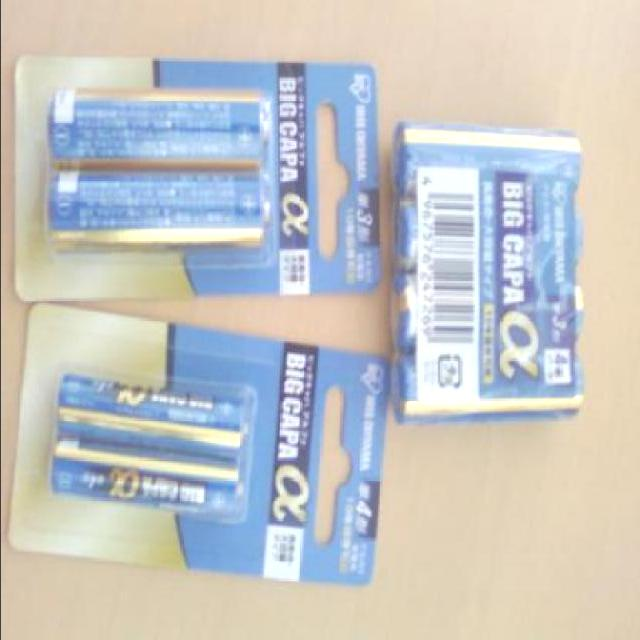AA: (45, 85, 274, 166), (40, 169, 269, 248)
